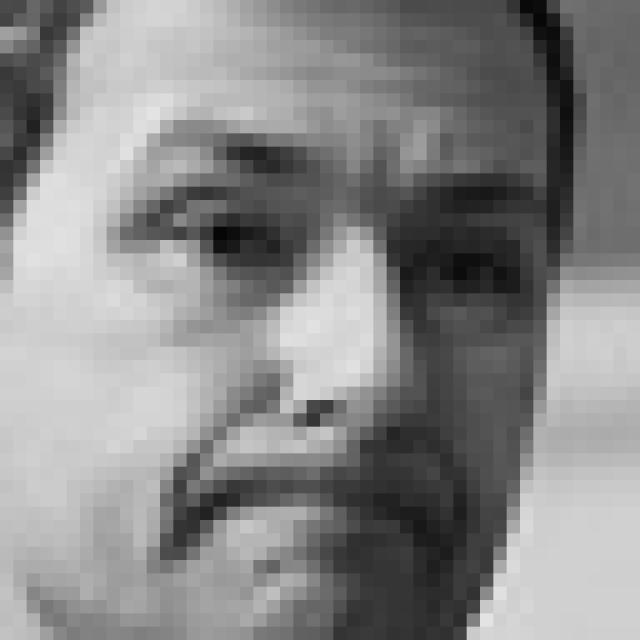sad: (86, 103, 556, 581)
